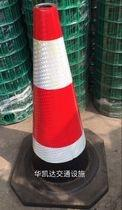cone_barrel: (27, 3, 90, 180)
